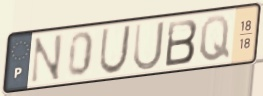0: (67, 29, 96, 80)
B: (163, 17, 200, 69)
N: (28, 32, 65, 86)
Q: (198, 13, 232, 64)
U: (131, 18, 167, 73), (97, 23, 134, 76)
